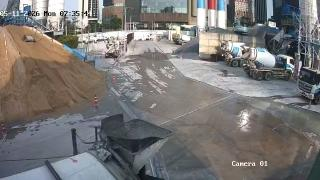cement_mixer_truck: (0, 119, 176, 180), (244, 45, 297, 81), (297, 59, 320, 100), (223, 38, 242, 67), (103, 40, 122, 59), (173, 33, 193, 44)
